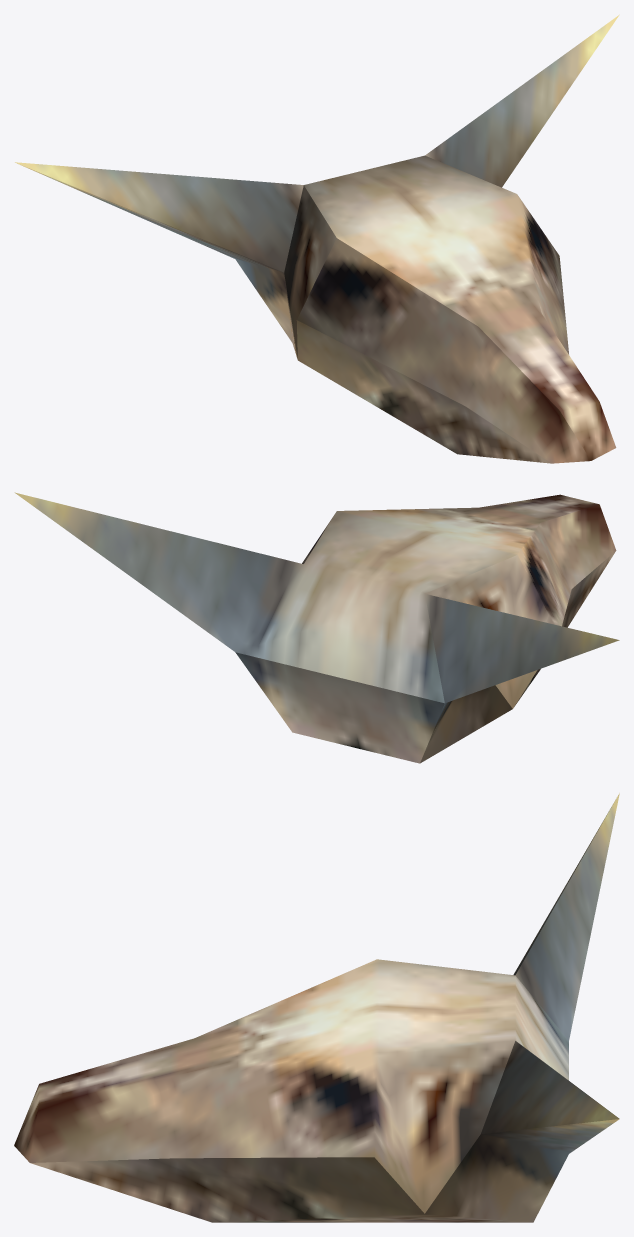
Rendered from scull01.glb.
3 views of the same model, one above another, from view 1: azimuth 30°, elevation 25°; view 2: azimuth 150°, elevation 25°; view 3: azimuth 270°, elevation 25° (orthographic). The views are drawn at different scales.
Visible parts, largest first — view 1: scull01-col; view 2: scull01-col; view 3: scull01-col.
Part boxes in pixels (x1,y1,x2,y2): scull01-col: (15,14,619,463); scull01-col: (14,492,619,763); scull01-col: (14,793,619,1222).
Bounding box in the file's own units: 0.812 × 0.2818 × 0.6366.
1 material, 1 textured.
